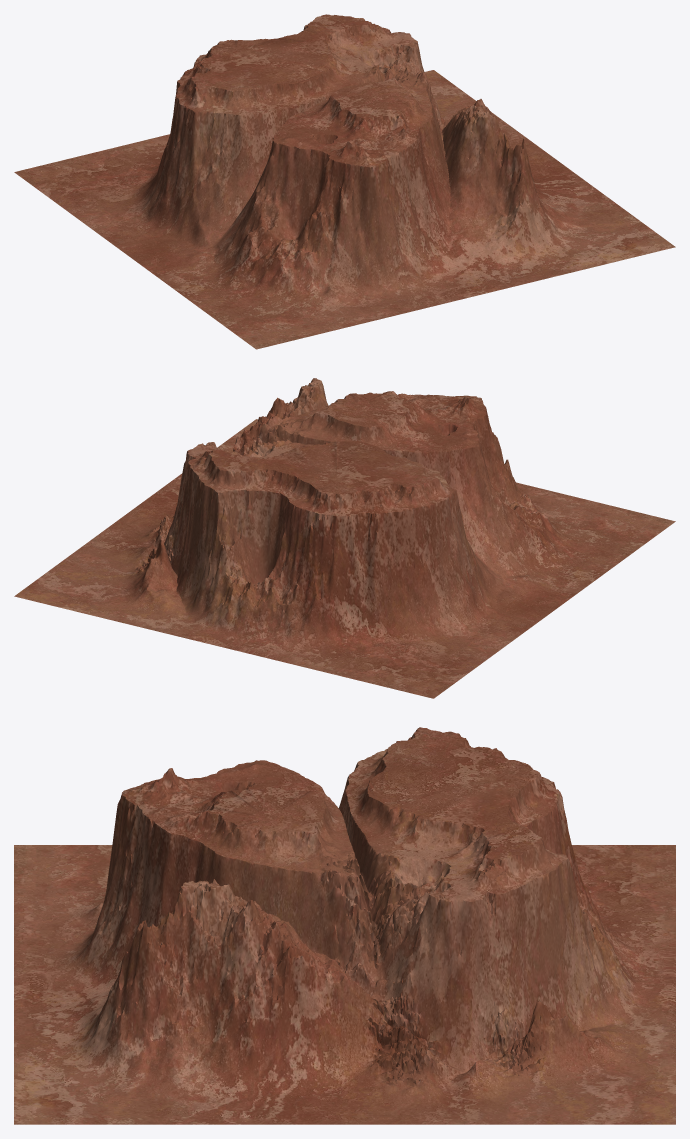
The model's file is ap_modular_wadi_desert_rock3.gltf.
3 views of the same model, one above another, from view 1: azimuth 30°, elevation 25°; view 2: azimuth 150°, elevation 25°; view 3: azimuth 270°, elevation 25° (orthographic). The views are drawn at different scales.
Parts seen in each view (by area): view 1: ap_modular_wadi_desert_rock3; view 2: ap_modular_wadi_desert_rock3; view 3: ap_modular_wadi_desert_rock3.
Boxes of the visible parts, left/top/right/bottom form: ap_modular_wadi_desert_rock3: left=14, top=14, right=675, bottom=349; ap_modular_wadi_desert_rock3: left=14, top=378, right=675, bottom=698; ap_modular_wadi_desert_rock3: left=14, top=727, right=675, bottom=1124.
Bounding box in the file's own units: 24 × 7.07 × 24.
Materials: 1 (1 with a texture image).
